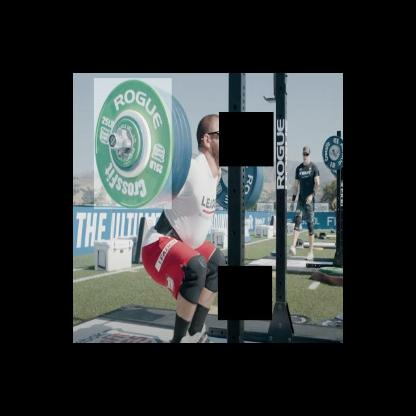barbell: (94, 79, 172, 210)
